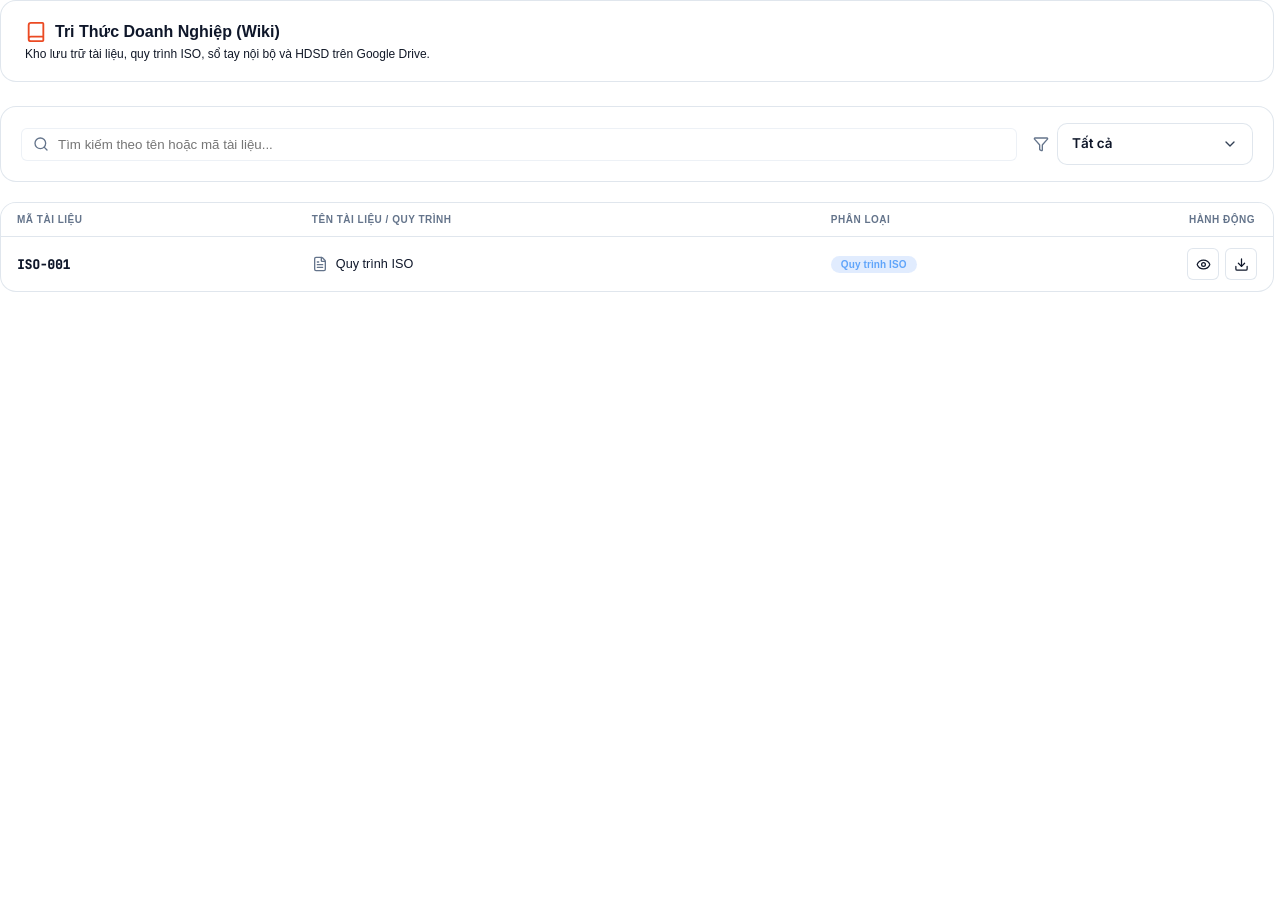
Wiki private documents › opens a DOCX Wiki document in FilePreviewModal with .docx extension
This screenshot has width=1280, height=900.
Click the button named "Mở file": (1203, 264) [1187, 248, 1219, 280]
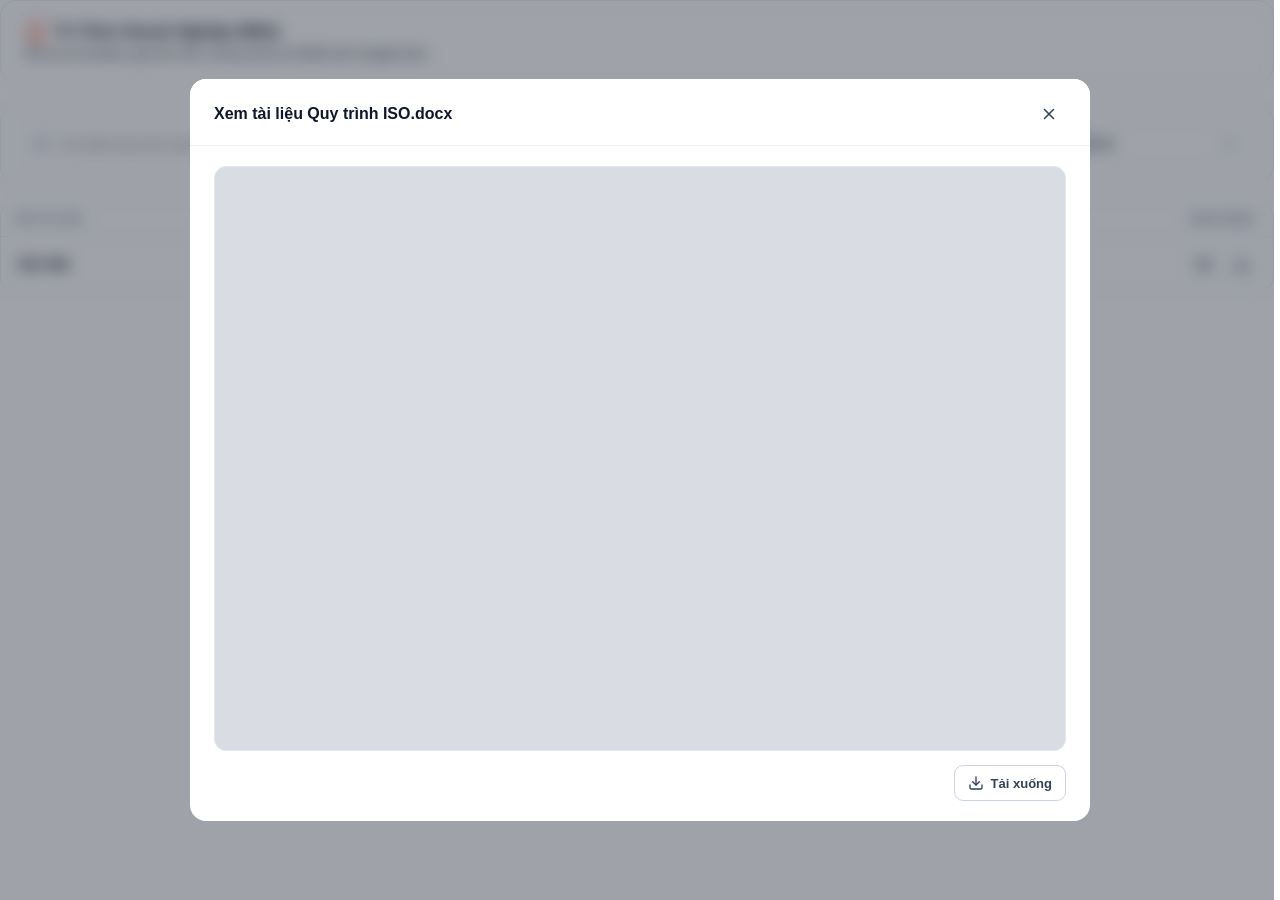
Result: the dialog is shown
Result: the heading "Xem tài liệu Quy trình ISO.docx" is shown at [214, 105, 452, 123]
